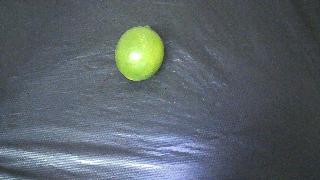LOCAL: (115, 26, 164, 81)
